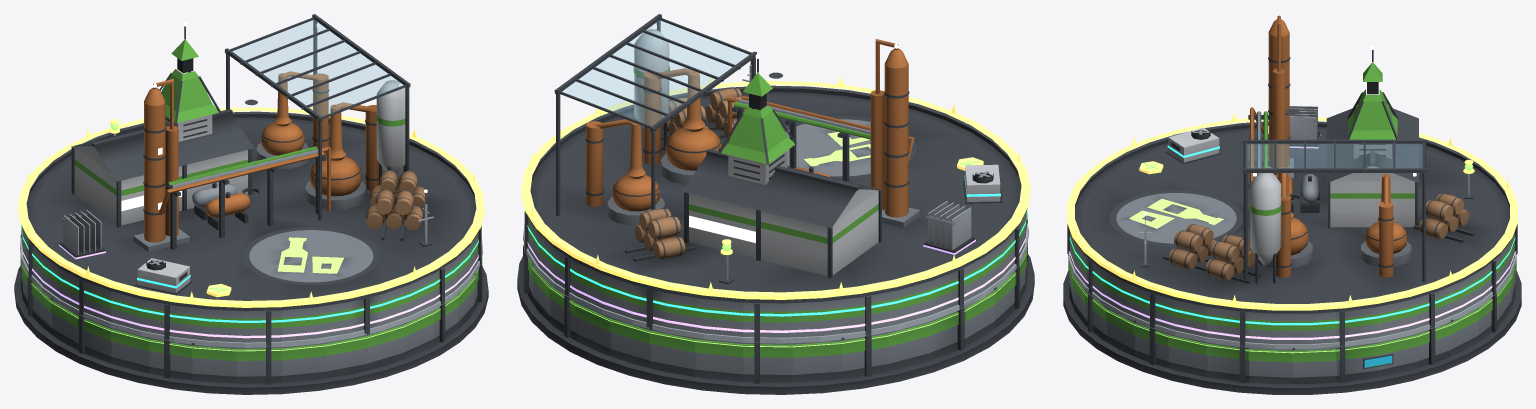
File: distillery_m.glb
3 views of the same model, side by side, from view 1: azimuth 30°, elevation 25°; view 2: azimuth 150°, elevation 25°; view 3: azimuth 270°, elevation 25° (orthographic). The views are drawn at different scales.
Visible parts, largest first — view 1: Roof, Base, Wall_21, Wall_20, L4, Wall_22, L3, Wall_19, Wall_23, Wall_18, Wall_24, Upper_21 (+23 smaller); view 2: Roof, Base, L4, Wall_10, Wall_11, Wall_09, Wall_12, Wall_08, Wall_13, Wall_07, Upper_10, Upper_11 (+24 smaller); view 3: Roof, Base, Wall_00, Wall_31, Wall_30, L3, Wall_29, Wall_01, Wall_28, Wall_03, Wall_02, Upper_00 (+22 smaller).
Boxes of the visible parts, x1=… form: Roof: x1=26, y1=14, x2=479, y2=311; Base: x1=14, y1=266, x2=488, y2=394; Wall_21: x1=236, y1=346, x2=281, y2=384; Wall_20: x1=191, y1=343, x2=236, y2=383; L4: x1=59, y1=210, x2=105, y2=259; Wall_22: x1=281, y1=342, x2=325, y2=382; L3: x1=135, y1=187, x2=260, y2=294; Wall_19: x1=149, y1=338, x2=191, y2=380; Wall_23: x1=325, y1=334, x2=367, y2=378; Wall_18: x1=110, y1=328, x2=149, y2=373; Wall_24: x1=366, y1=324, x2=403, y2=370; Upper_21: x1=236, y1=310, x2=281, y2=346; Roof: x1=527, y1=14, x2=1021, y2=303; Base: x1=517, y1=254, x2=1034, y2=394; L4: x1=923, y1=201, x2=975, y2=254; Wall_10: x1=743, y1=341, x2=792, y2=383; Wall_11: x1=792, y1=339, x2=841, y2=382; Wall_09: x1=694, y1=338, x2=743, y2=381; Wall_12: x1=841, y1=332, x2=887, y2=378; Wall_08: x1=649, y1=328, x2=695, y2=376; Wall_13: x1=887, y1=322, x2=929, y2=371; Wall_07: x1=609, y1=317, x2=650, y2=367; Upper_10: x1=743, y1=302, x2=792, y2=341; Upper_11: x1=792, y1=299, x2=840, y2=337; Roof: x1=1073, y1=14, x2=1511, y2=313; Base: x1=1063, y1=270, x2=1521, y2=394; Wall_00: x1=1292, y1=347, x2=1336, y2=384; Wall_31: x1=1248, y1=347, x2=1292, y2=384; Wall_30: x1=1206, y1=342, x2=1248, y2=383; L3: x1=1165, y1=128, x2=1301, y2=202; Wall_29: x1=1168, y1=334, x2=1206, y2=377; Wall_01: x1=1336, y1=342, x2=1378, y2=383; Wall_28: x1=1134, y1=320, x2=1168, y2=368; Wall_03: x1=1416, y1=322, x2=1450, y2=368; Wall_02: x1=1378, y1=334, x2=1416, y2=377; Upper_00: x1=1292, y1=312, x2=1335, y2=344.
Size of the model in its own units: 14.75 by 8.56 by 14.75.
